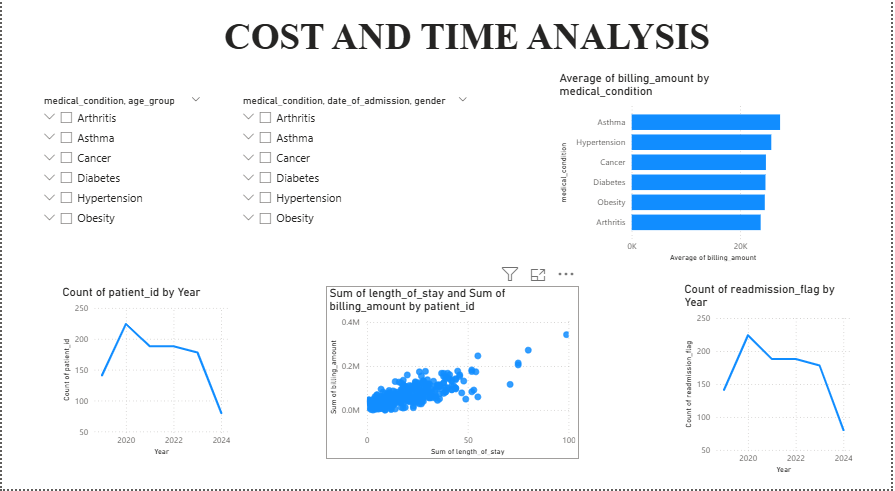

The page's visual inventory and layout, read from the dashboard file:
{"tool":"powerbi","page":{"name":"Page 2","canvas":[1280,720],"ordinal":1},"visuals":[{"type":"clusteredBarChart","fields":{"Category":["clean_health_data.medical_condition"],"Y":["Avg(clean_health_data.billing_amount)"]},"box":[797.8,118.1,358.6,279.4],"z":1},{"type":"scatterChart","fields":{"Category":["clean_health_data.patient_id"],"X":["Sum(clean_health_data.length_of_stay)"],"Y":["Sum(clean_health_data.billing_amount)"]},"box":[466.6,427.7,364.3,249.1],"z":2},{"type":"slicer","fields":{"Values":["clean_health_data.medical_condition","clean_health_data.age_group"]},"box":[47.5,146.9,250.6,279.4],"z":3},{"type":"lineChart","fields":{"Category":["clean_health_data.date_of_admission.Variation.Date Hierarchy.Year","clean_health_data.date_of_admission.Variation.Date Hierarchy.Quarter","clean_health_data.date_of_admission.Variation.Date Hierarchy.Month","clean_health_data.date_of_admission.Variation.Date Hierarchy.Day"],"Y":["CountNonNull(clean_health_data.patient_id)"]},"box":[81.7,426.7,251.7,250],"z":4},{"type":"lineChart","fields":{"Category":["clean_health_data.date_of_admission.Variation.Date Hierarchy.Year","clean_health_data.date_of_admission.Variation.Date Hierarchy.Quarter","clean_health_data.date_of_admission.Variation.Date Hierarchy.Month","clean_health_data.date_of_admission.Variation.Date Hierarchy.Day"],"Y":["CountNonNull(clean_health_data.readmission_flag)"]},"box":[977.8,421.9,252,280.8],"z":5},{"type":"slicer","fields":{"Values":["clean_health_data.medical_condition","clean_health_data.date_of_admission","clean_health_data.gender"]},"box":[334.1,146.9,348.5,250.6],"z":6},{"type":"textbox","box":[308.2,31.7,722.9,73.4],"z":7}]}

Visuals, with their boxes in screenshot pixels (x1, y1, x2, y2), scaled from the page's 1280x720 canvas onto the 895x491 screenshot:
clusteredBarChart - clean_health_data.medical_condition x Avg(clean_health_data.billing_amount): (558, 81, 809, 271)
scatterChart - clean_health_data.patient_id x Sum(clean_health_data.length_of_stay): (326, 292, 581, 462)
slicer - clean_health_data.medical_condition x clean_health_data.age_group: (33, 100, 208, 291)
lineChart - clean_health_data.date_of_admission.Variation.Date Hierarchy.Year x clean_health_data.date_of_admission.Variation.Date Hierarchy.Quarter: (57, 291, 233, 461)
lineChart - clean_health_data.date_of_admission.Variation.Date Hierarchy.Year x clean_health_data.date_of_admission.Variation.Date Hierarchy.Quarter: (684, 288, 860, 479)
slicer - clean_health_data.medical_condition x clean_health_data.date_of_admission: (234, 100, 477, 271)
textbox: (215, 22, 721, 72)
